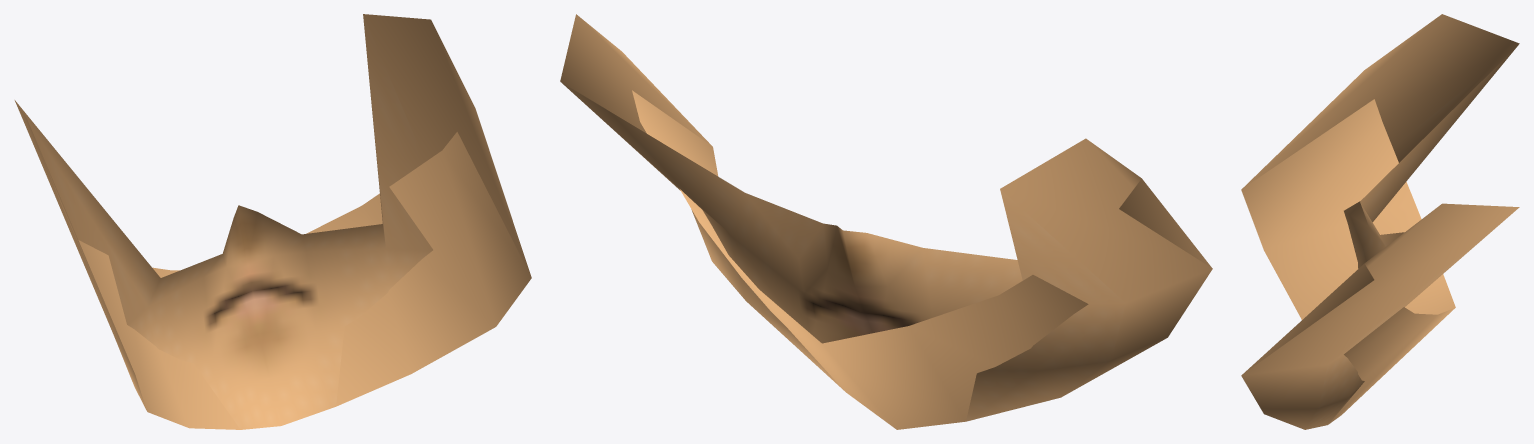
File: batch_0021.obj
3 renders of one model, left to right at view 1: azimuth 30°, elevation 25°; view 2: azimuth 150°, elevation 25°; view 3: azimuth 270°, elevation 25°, orthographic. The views are drawn at different scales.
Visible parts, largest first — view 1: batch_0021; view 2: batch_0021; view 3: batch_0021.
Part boxes in pixels (x1,y1,x2,y2): batch_0021: (14, 14, 531, 429); batch_0021: (560, 14, 1212, 429); batch_0021: (1241, 14, 1519, 429).
Bounding box in the file's own units: 25.03 × 18.5 × 15.25.
1 material, 1 textured.
